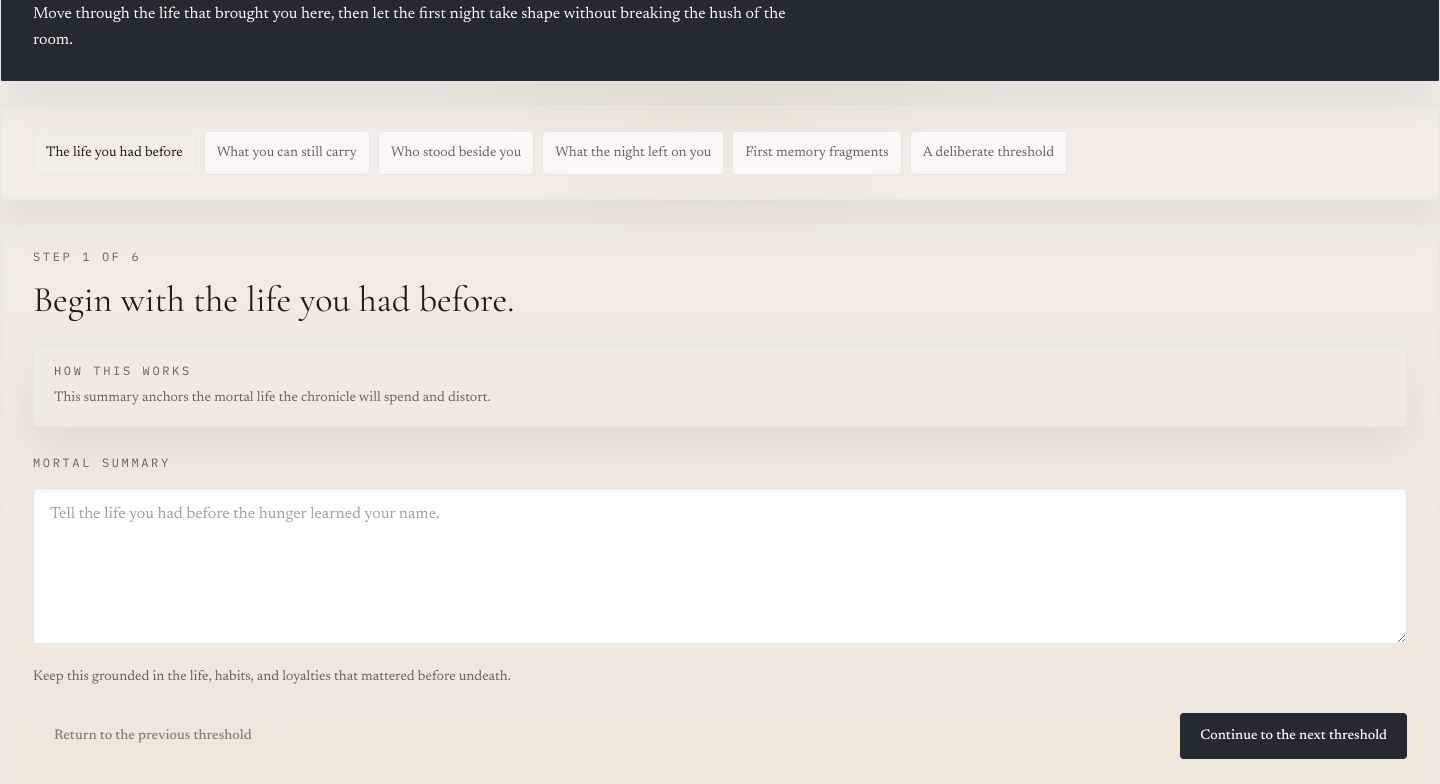
Test: guided setup flow › adds a deliberate safety checkpoint before the first prompt
(page scrolled)
Click the button "Continue to the next threshold": click(1294, 736) [1180,713,1407,759]
(page scrolled)
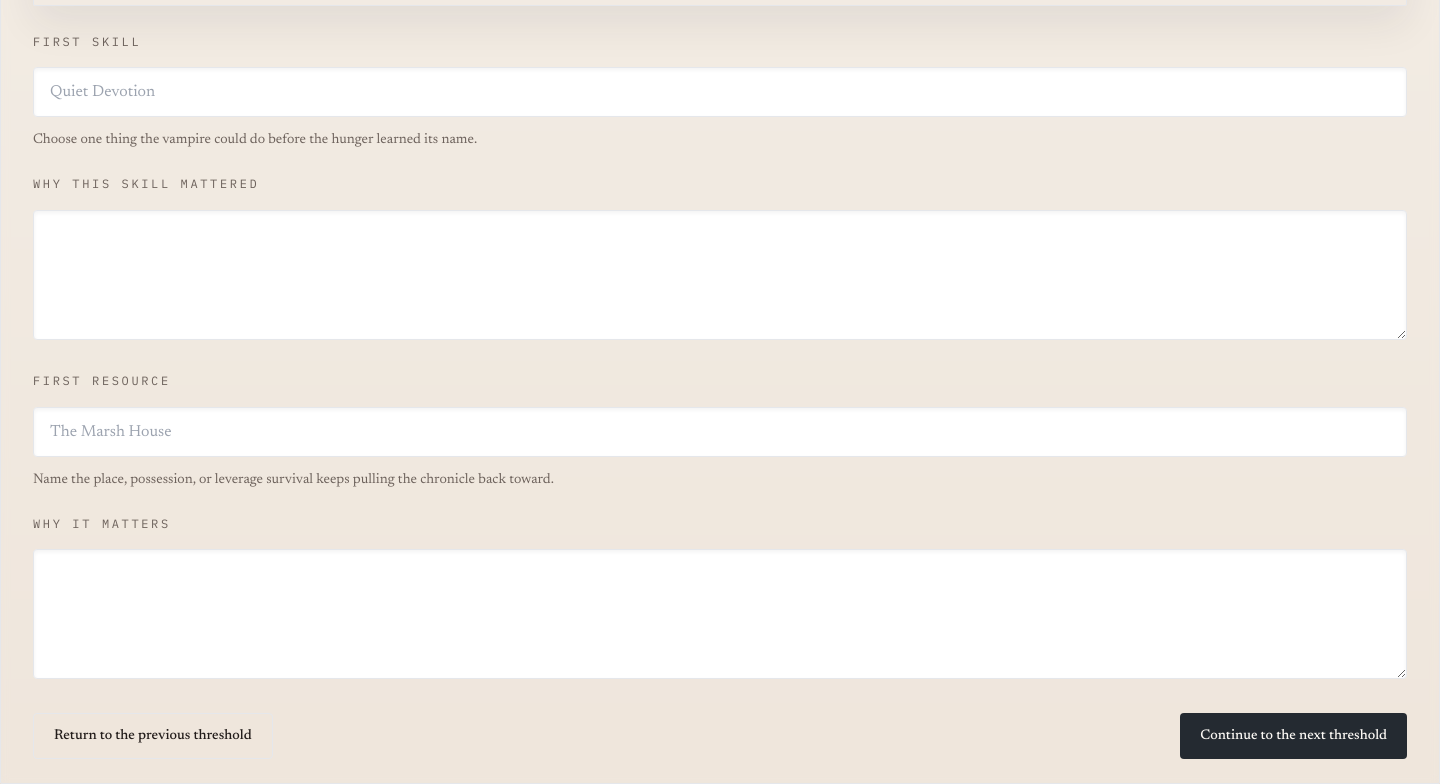
Click the button "Continue to the next threshold": click(1294, 736) [1180,713,1407,759]
(page scrolled)
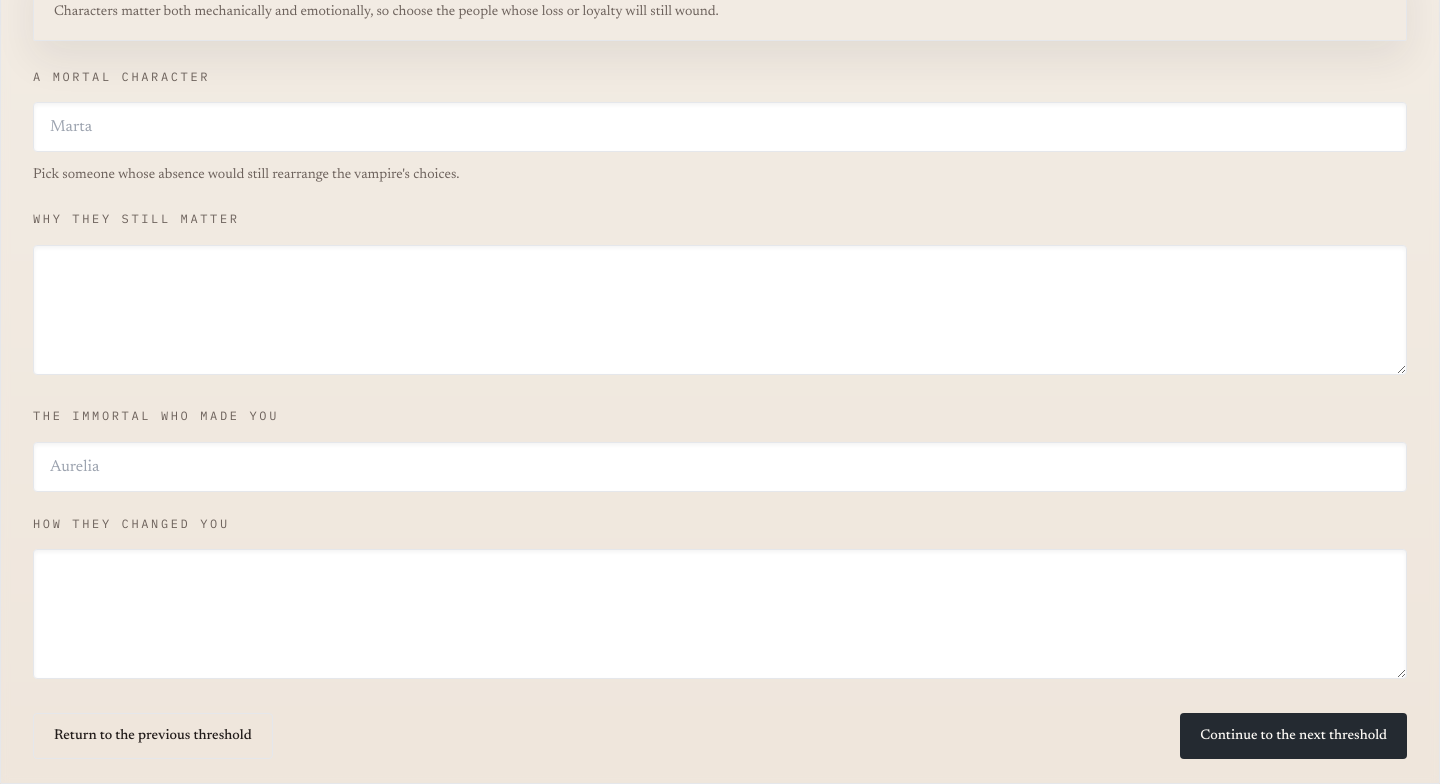
Click the button "Continue to the next threshold": click(1294, 736) [1180,713,1407,759]
(page scrolled)
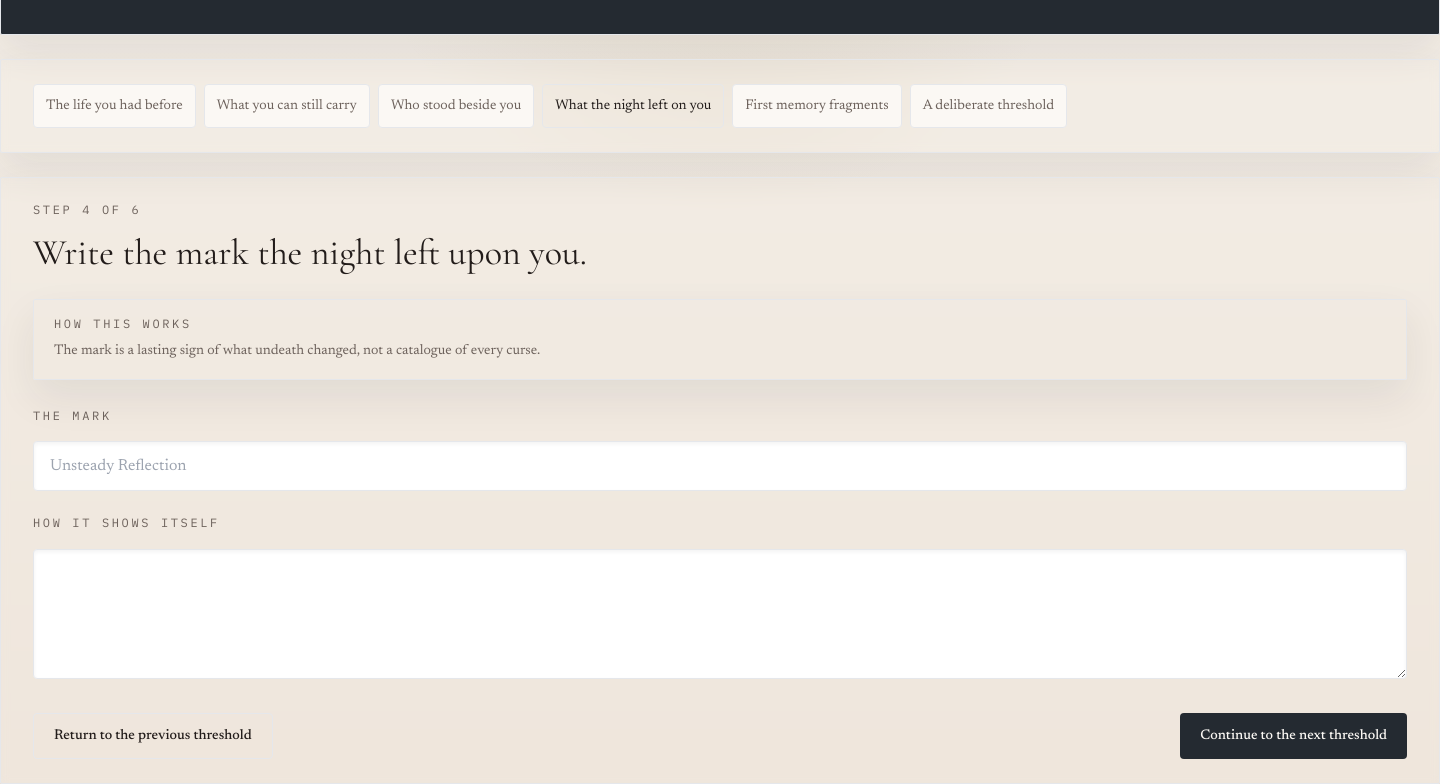
Click the button "Continue to the next threshold": click(1294, 736) [1180,712,1407,758]
(page scrolled)
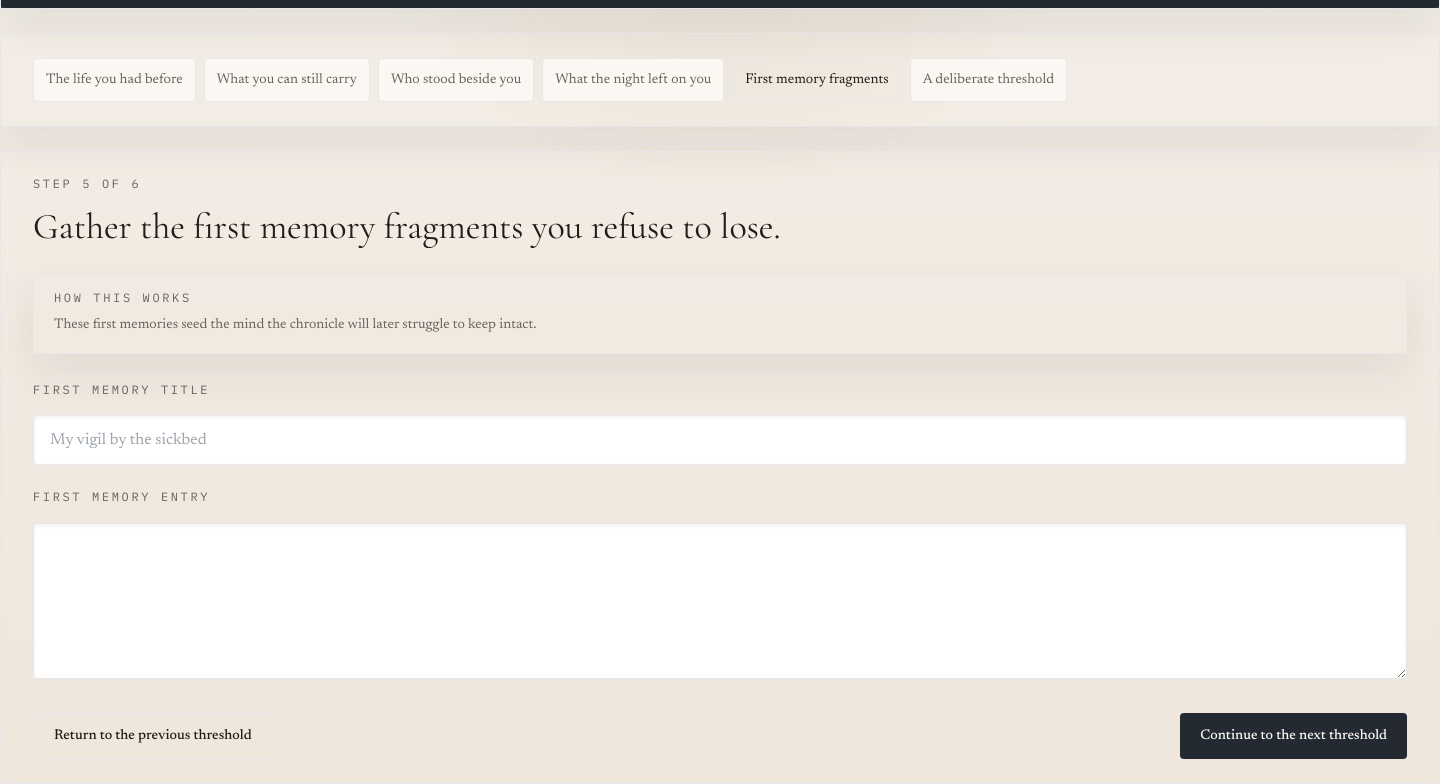
Click the button "Continue to the next threshold": click(1294, 736) [1180,712,1407,758]
(page scrolled)
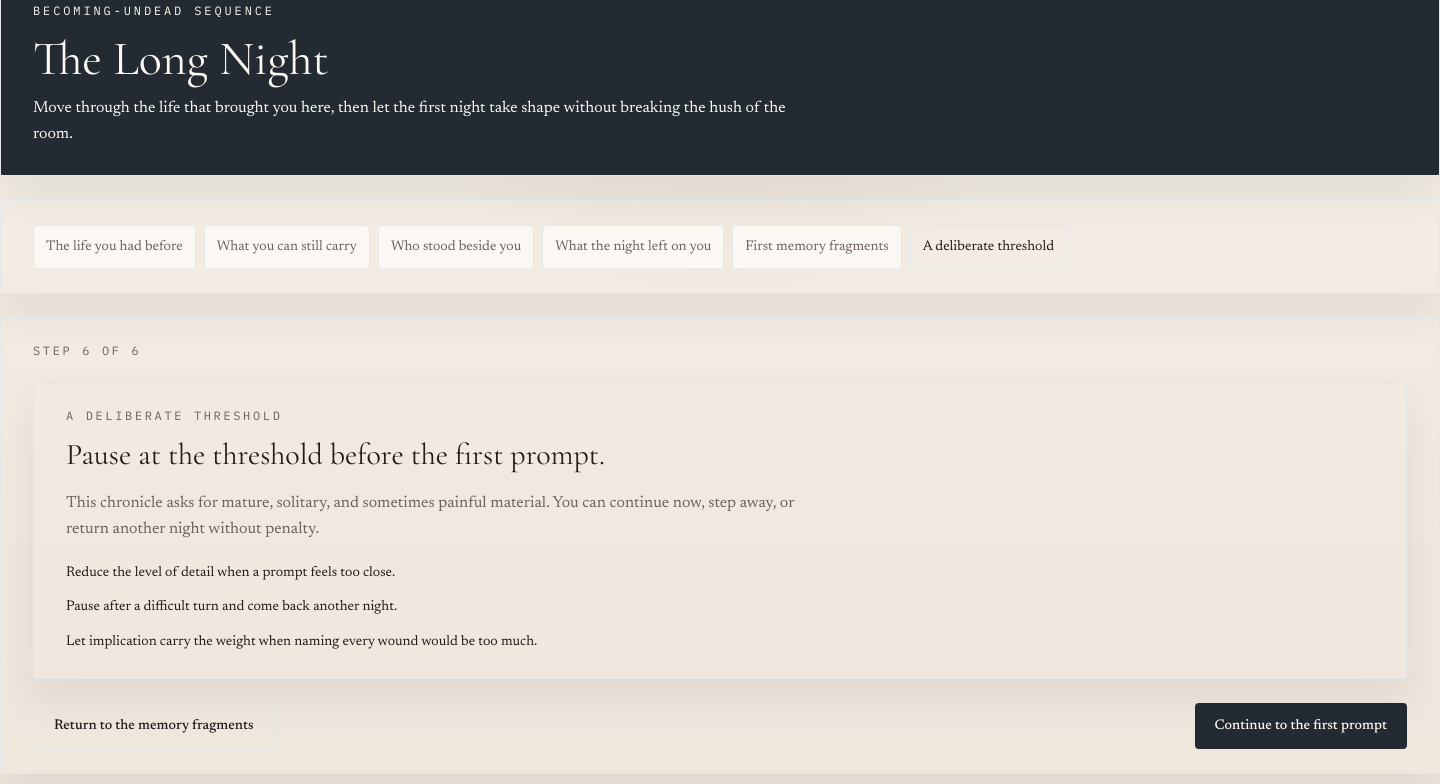
expect the heading "Pause at the threshold before the first prompt." is shown: met, box [66,436,605,473]
expect the text "This chronicle asks for mature, solitary, and sometimes painful material. You can continue now, step away, or return ano" is shown: met, box [66,494,794,536]
expect the button "Continue to the first prompt" is shown: met, box [1194,703,1407,749]
